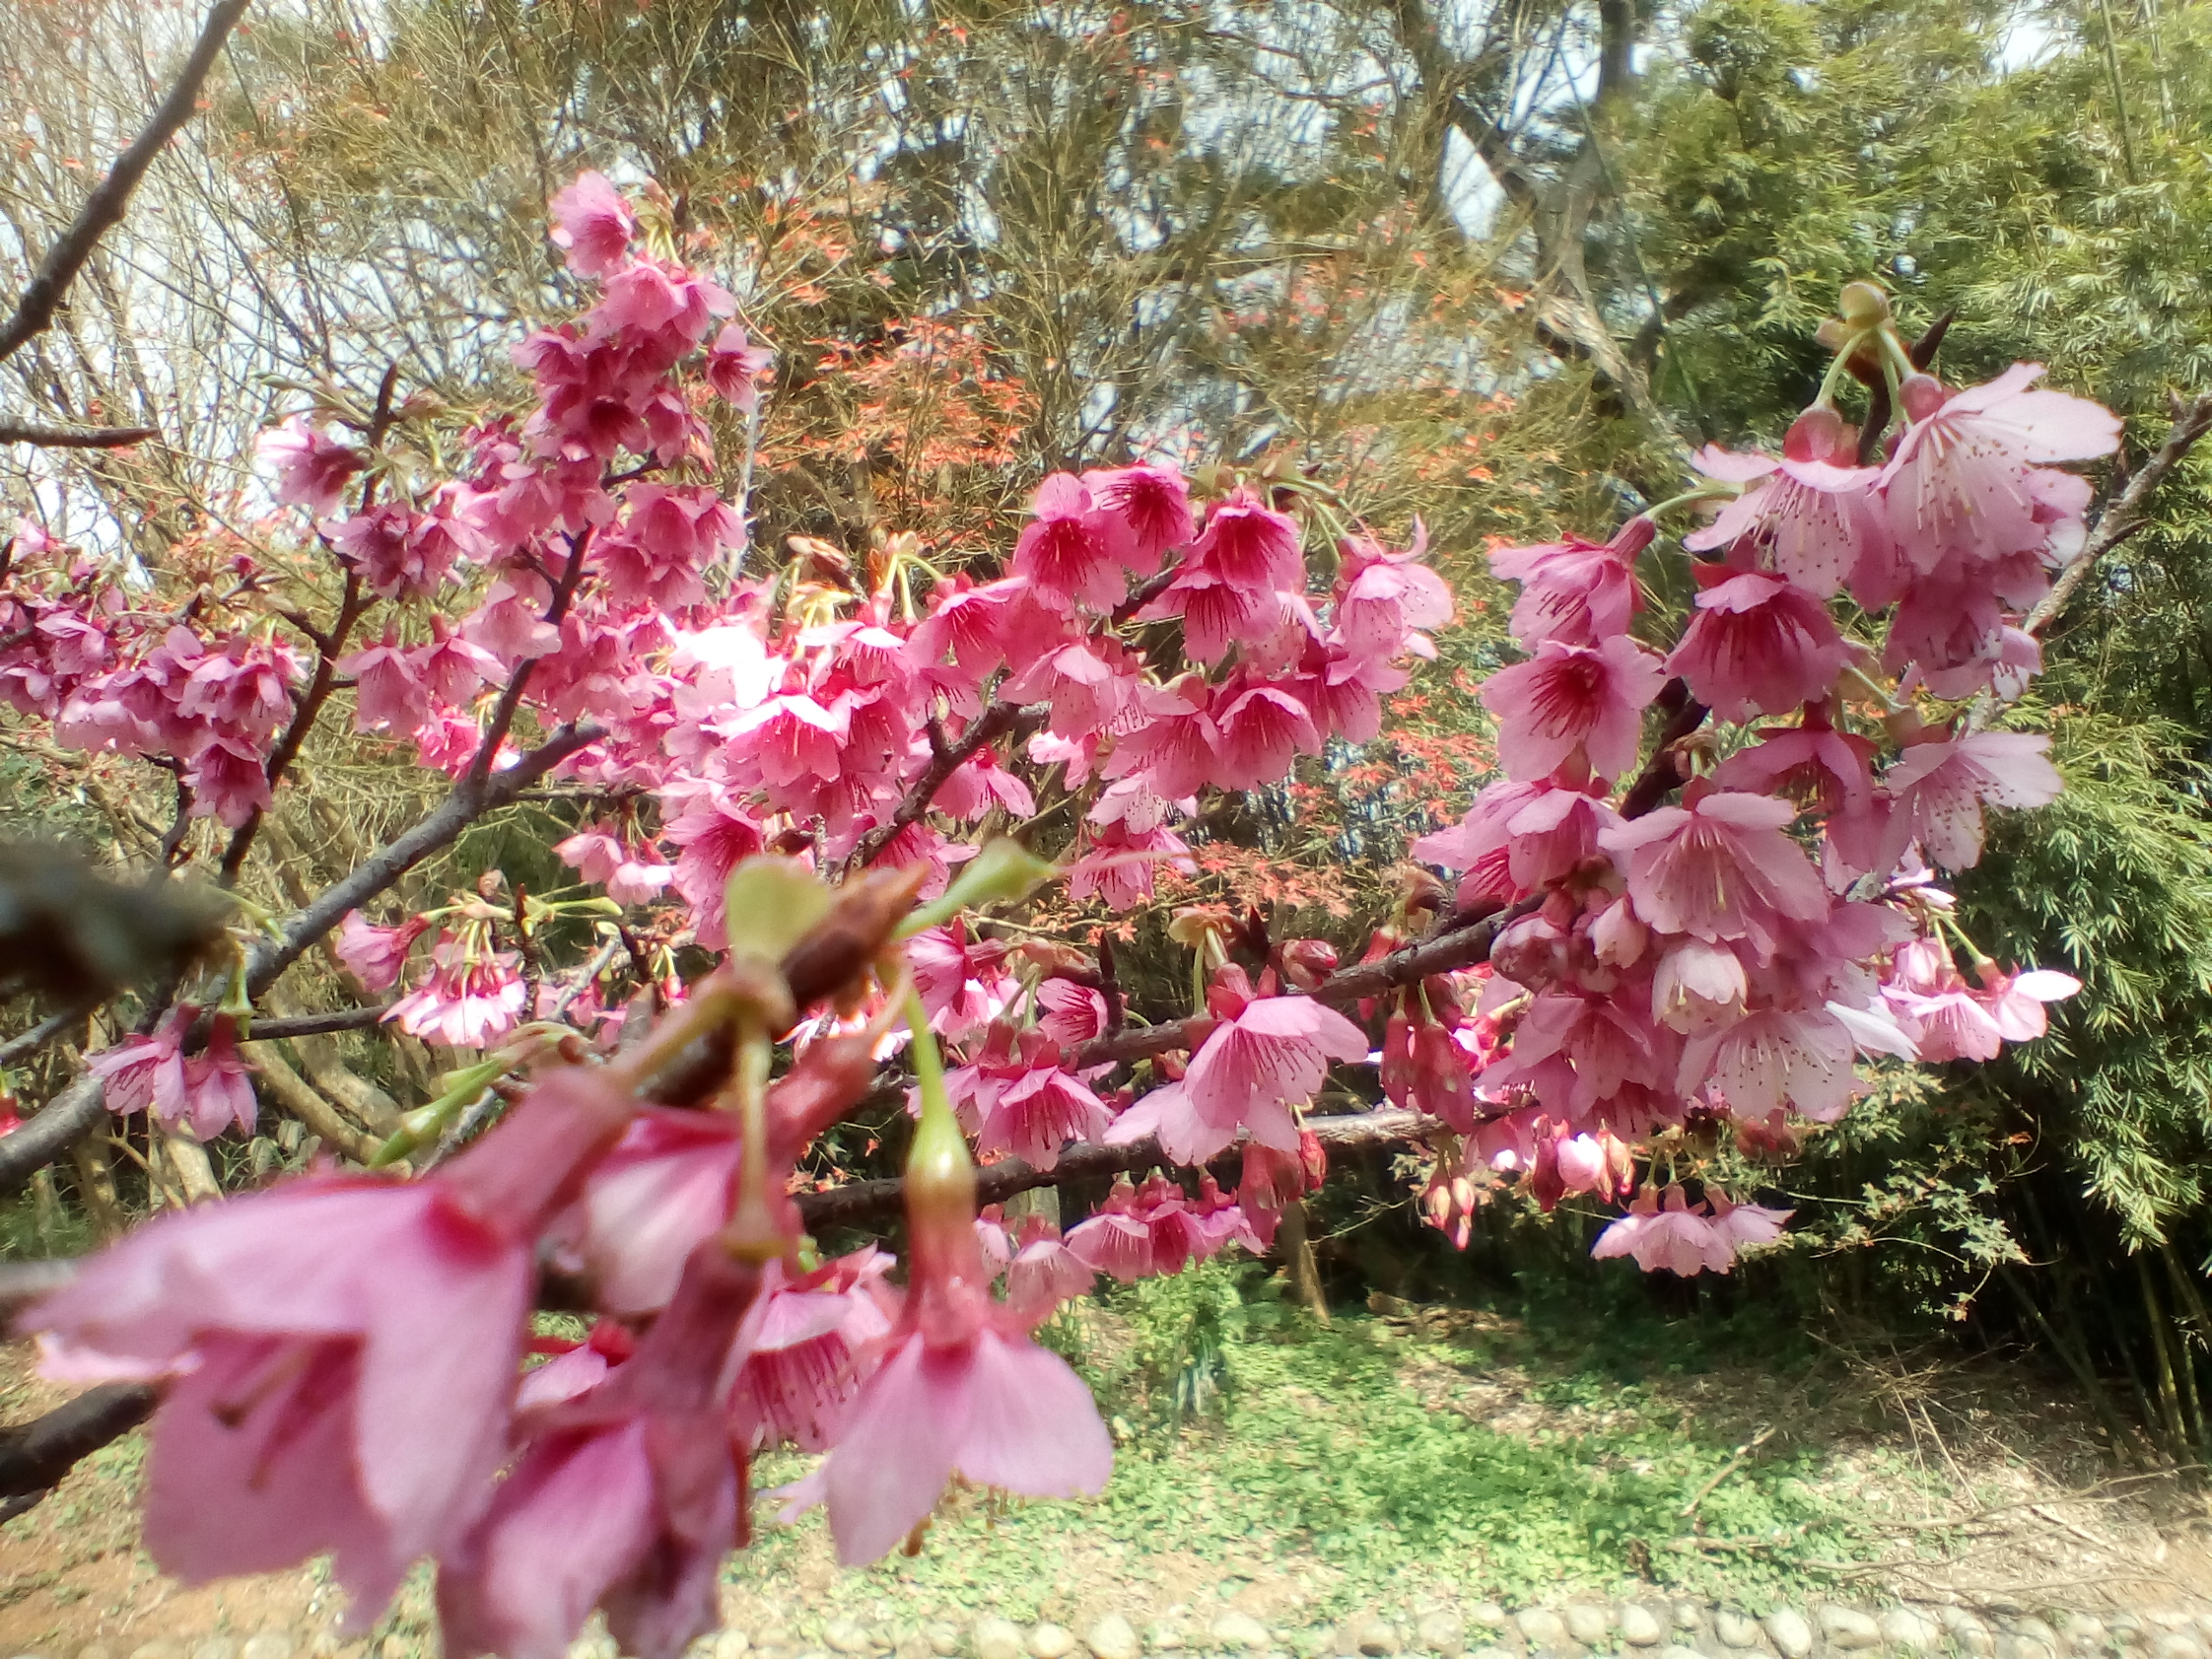sakula: (956, 495, 1468, 831)
